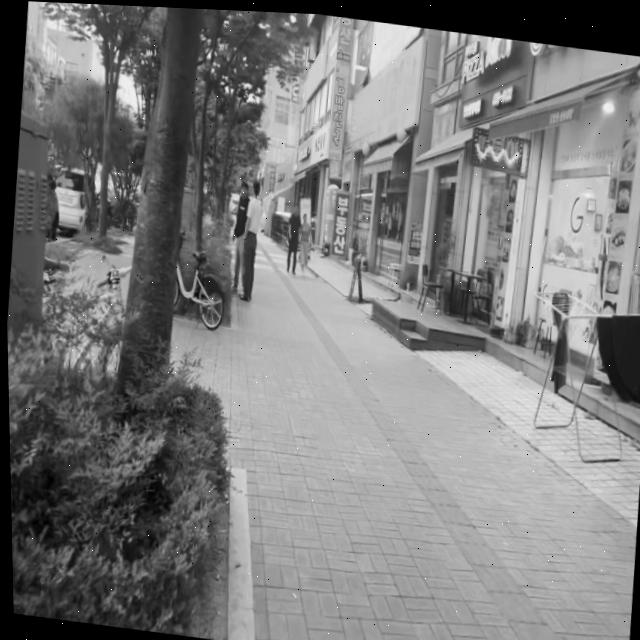human: (238, 171, 266, 302), (226, 175, 250, 298), (280, 195, 303, 275)
tactile_paving: (456, 515, 586, 640)
